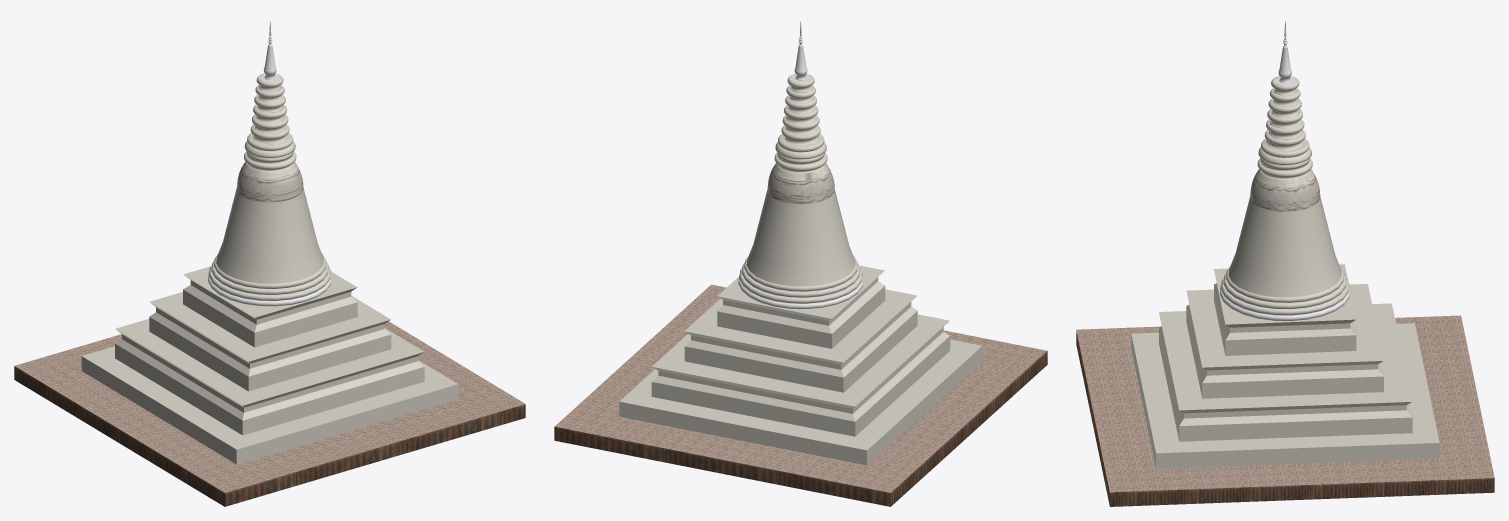
The model's file is wat-phnom-stupa.glb.
3 renders of one model, left to right at view 1: azimuth 30°, elevation 25°; view 2: azimuth 150°, elevation 25°; view 3: azimuth 270°, elevation 25°, orthographic. The views are drawn at different scales.
Visible parts, largest first — view 1: _(Loose Entity); view 2: _(Loose Entity); view 3: _(Loose Entity).
Boxes of the visible parts, x1,y1,x2,y2 form: _(Loose Entity): [14, 21, 525, 506]; _(Loose Entity): [554, 21, 1047, 506]; _(Loose Entity): [1076, 18, 1494, 506].
Size of the model in its own units: 25.1 by 26.78 by 25.1.
Materials: 5 (4 with a texture image).
